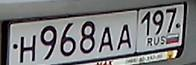license-plateSW: (7, 2, 185, 65)
